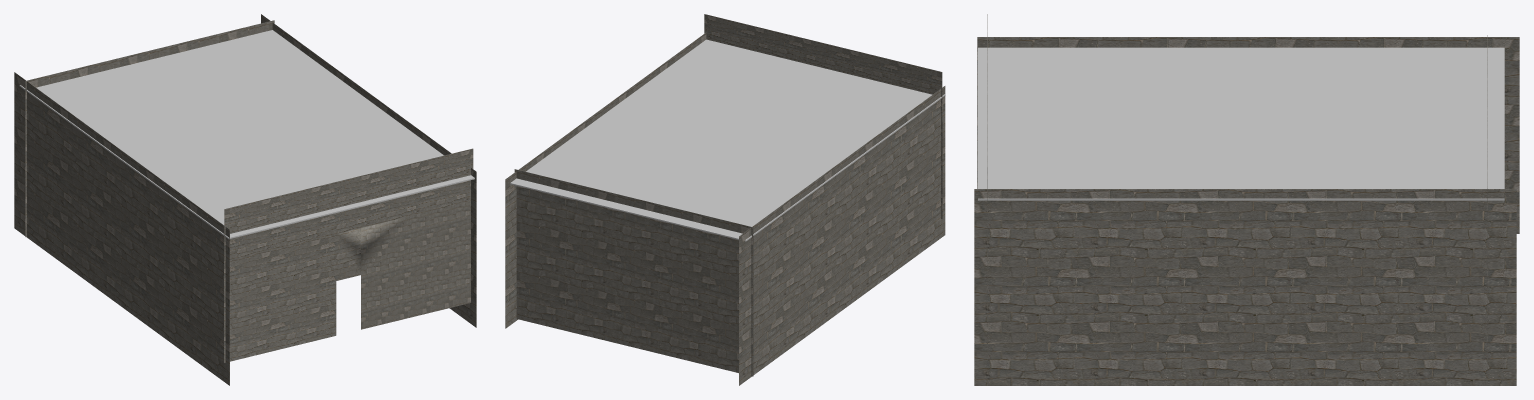
File: stanzabasketfixmura.fbx
3 views of the same model, side by side, from view 1: azimuth 30°, elevation 25°; view 2: azimuth 150°, elevation 25°; view 3: azimuth 270°, elevation 25° (orthographic). The views are drawn at different scales.
Visible parts, largest first — view 1: Plane.002, object_184.003, object_184.002, mura, object_184.001; view 2: Plane.002, mura, object_184.002, object_184.003, object_184.001; view 3: object_184.001, Plane.002, object_184.002.
Part boxes in pixels (x1,y1,x2,y2): Plane.002: (19, 30, 474, 239); object_184.003: (224, 148, 473, 362); object_184.002: (14, 72, 229, 385); mura: (25, 20, 274, 236); object_184.001: (261, 14, 476, 327); Plane.002: (510, 39, 945, 241); mura: (514, 169, 753, 376); object_184.002: (739, 86, 945, 385); object_184.003: (704, 14, 942, 218); object_184.001: (505, 32, 706, 328); object_184.001: (974, 189, 1516, 385); Plane.002: (978, 47, 1504, 200); object_184.002: (977, 37, 1519, 233).
Bounding box in the file's own units: 1002 × 672 × 1509.
